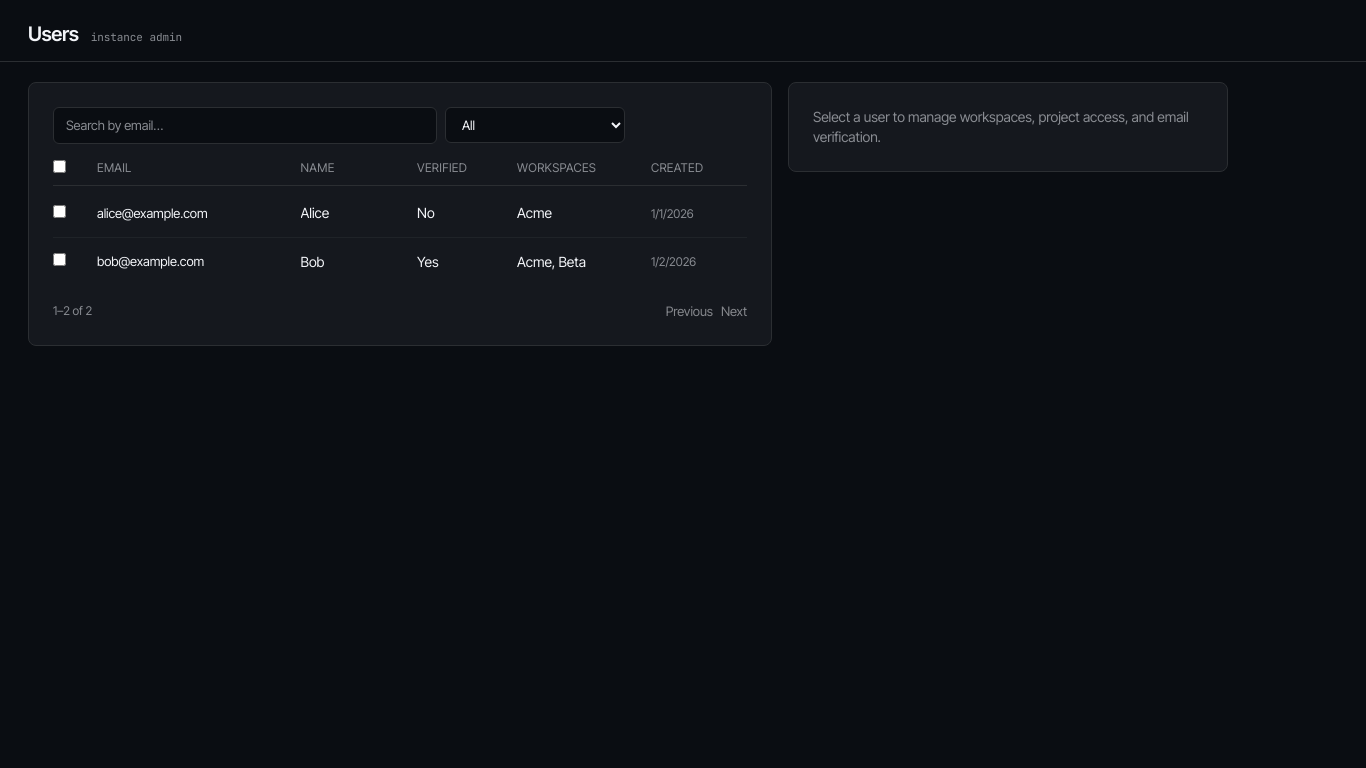
Test case: AdminUsersPage › shows remove panel with shared workspace picker after selecting users
Click the checkbox named "alice@example.com" at (60, 211), box x1=53 y1=205 x2=66 y2=218
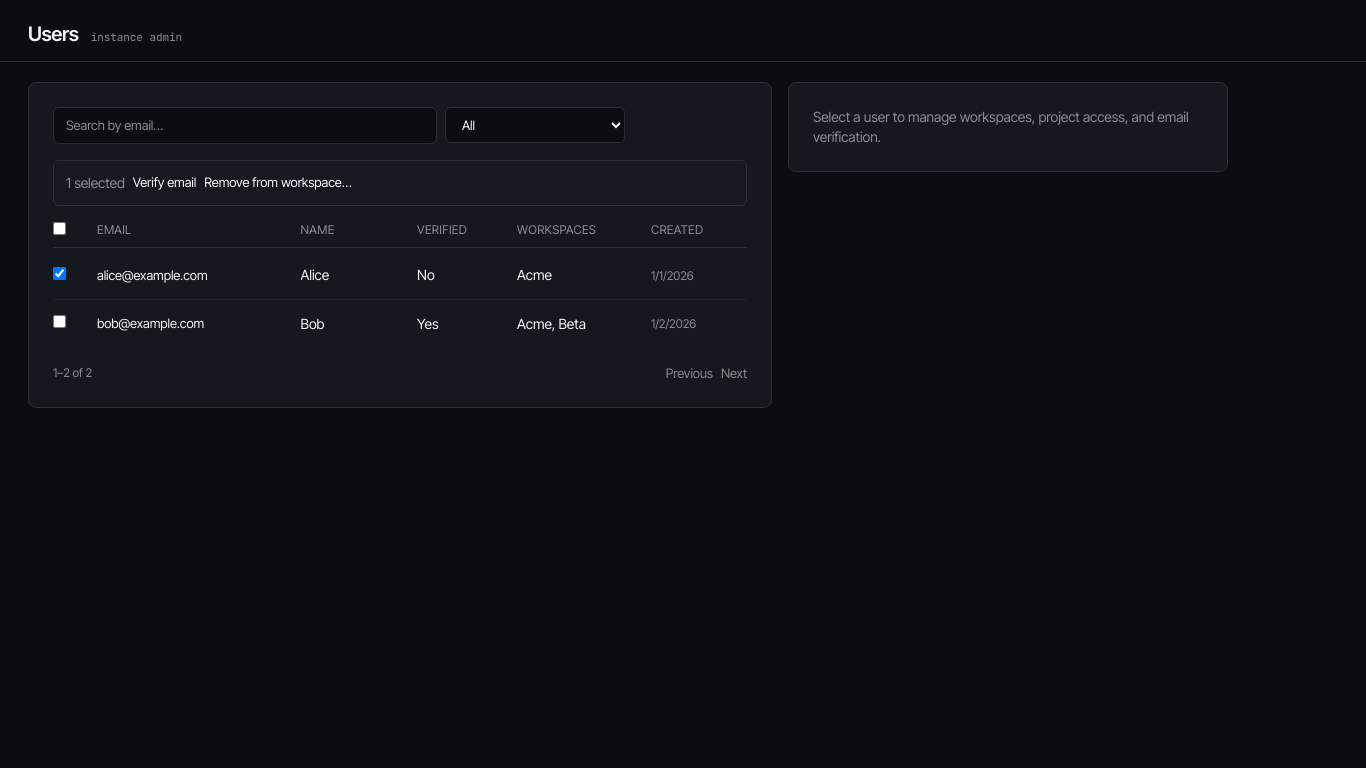
Click the checkbox named "bob@example.com" at (60, 322), box x1=53 y1=315 x2=66 y2=328
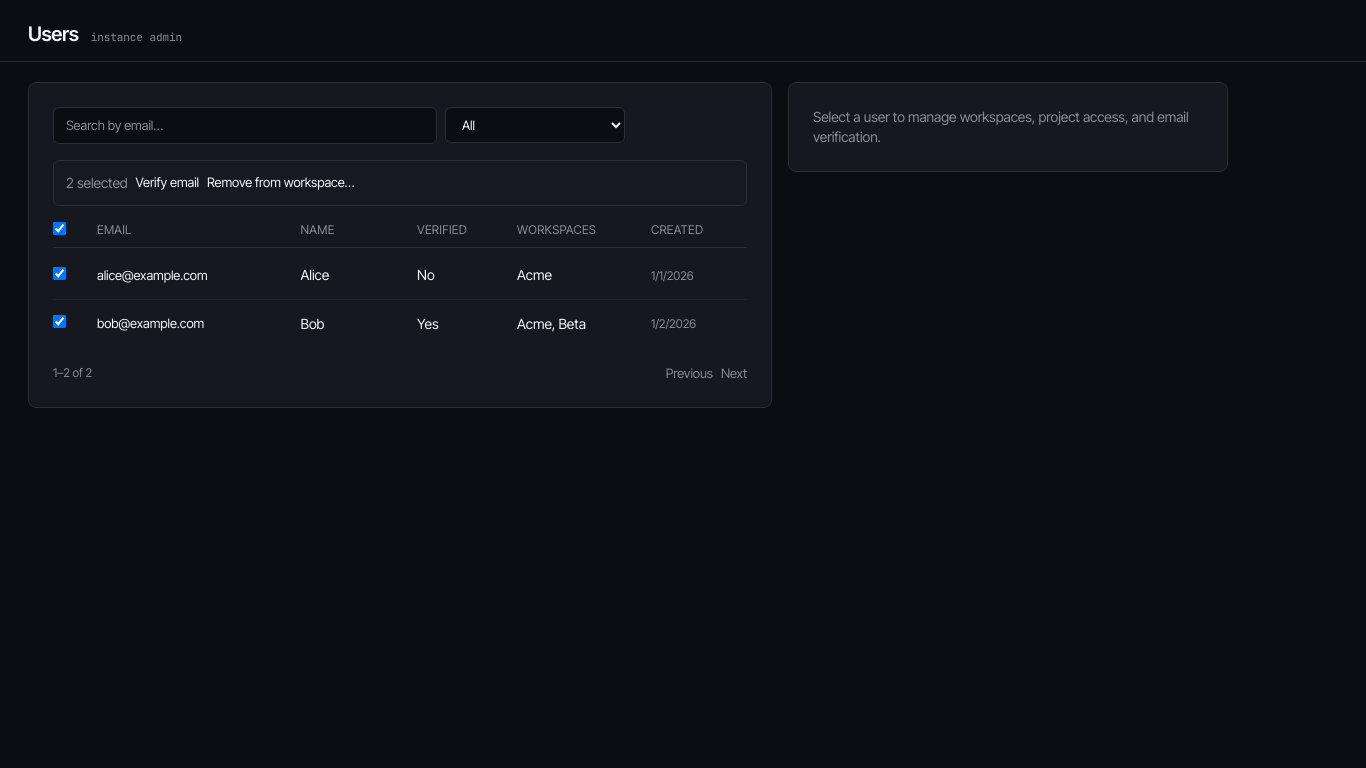
expect the element with test id "admin-users-bulk-bar" is shown: met, box x1=53 y1=160 x2=747 y2=206
Click the button with test id "bulk-remove-btn" at (281, 183), box x1=207 y1=173 x2=354 y2=192
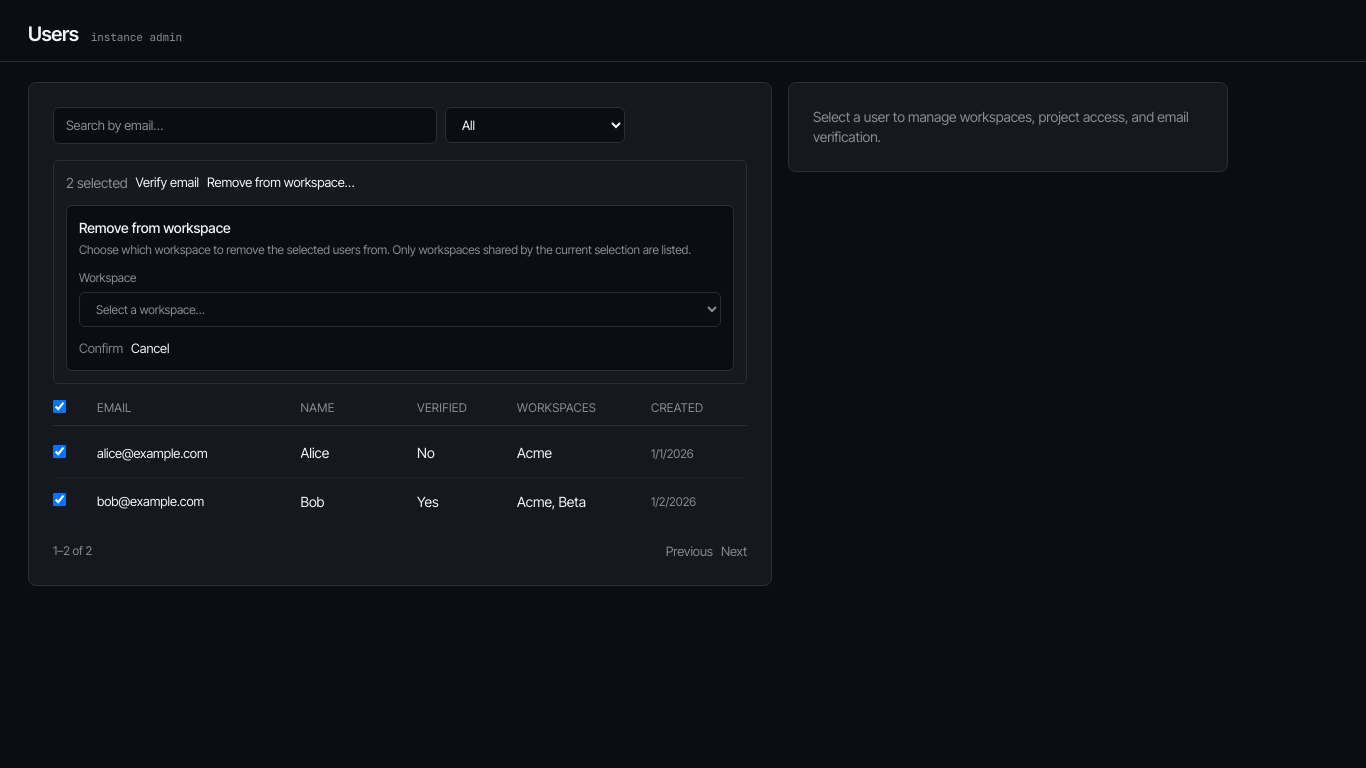
expect the element with test id "bulk-remove-panel" is shown: met, box x1=66 y1=205 x2=734 y2=371
